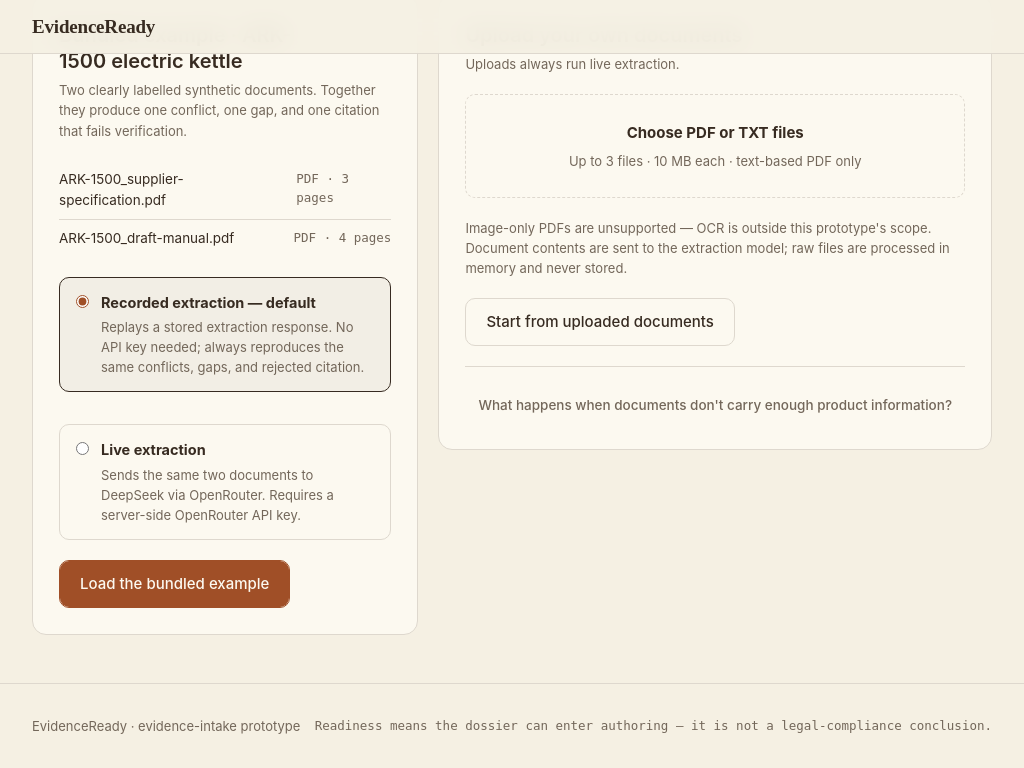
Test: App extraction lifecycle › shows a warning when session persistence falls back to memory
(page scrolled)
Click the button "Load the bundled example".
click(175, 584)  # box [59,560,290,608]
(page scrolled)
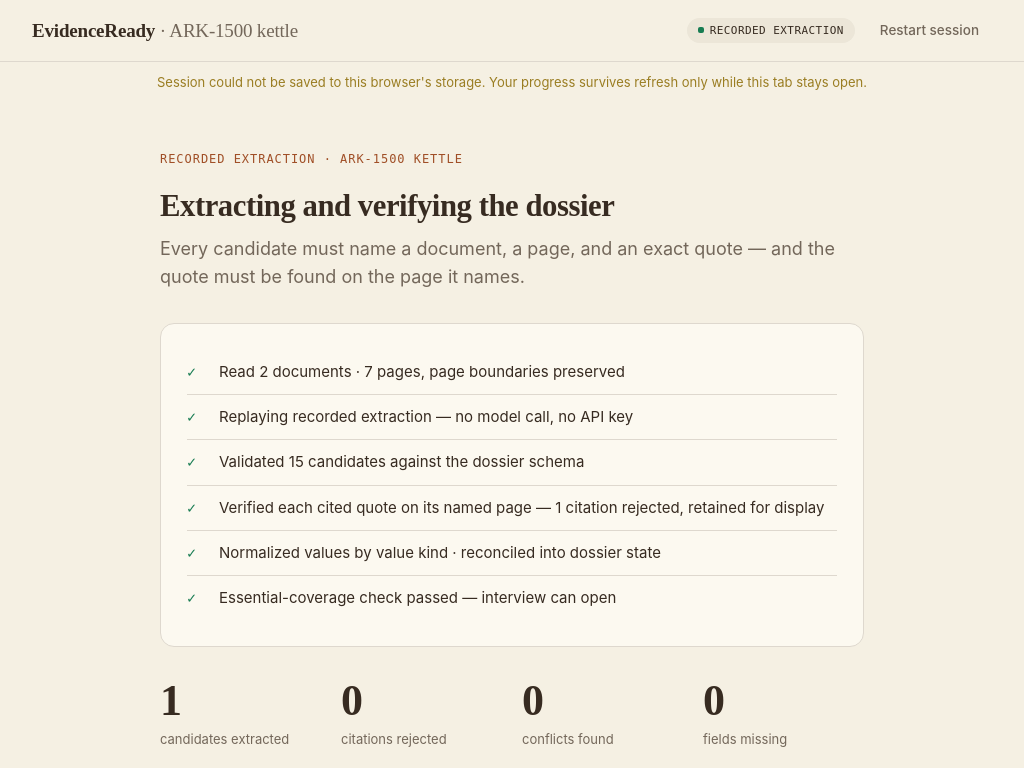
Check: the text "Session could not be saved to this browser" is shown, box [157,74,867,90]
